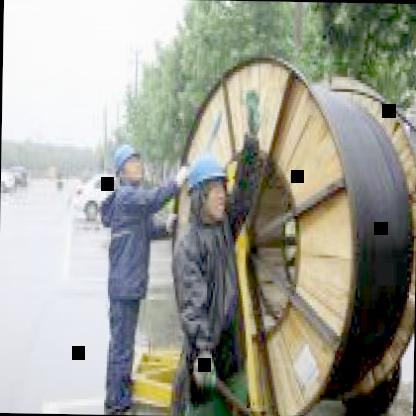helmet: (182, 145, 233, 232), (110, 141, 146, 186)
